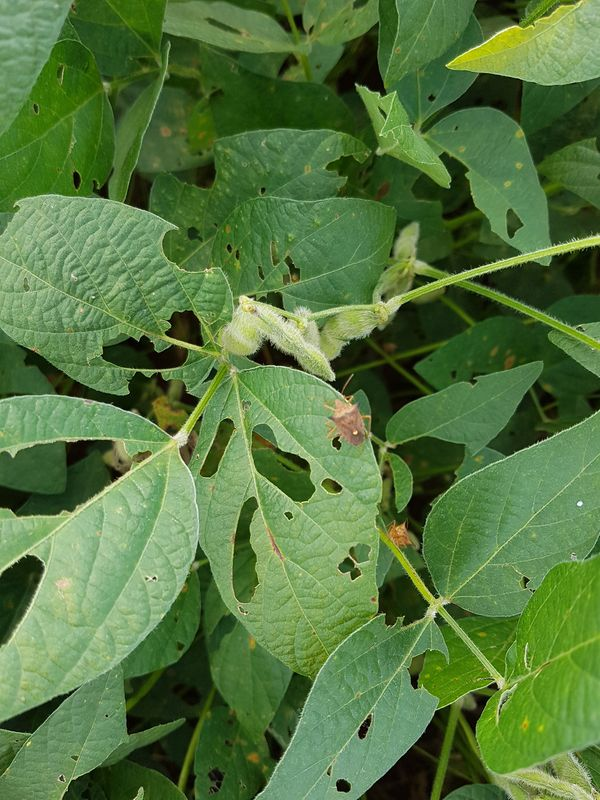Euschistus_heros_adulto: (313, 390, 380, 457), (378, 514, 416, 555)
